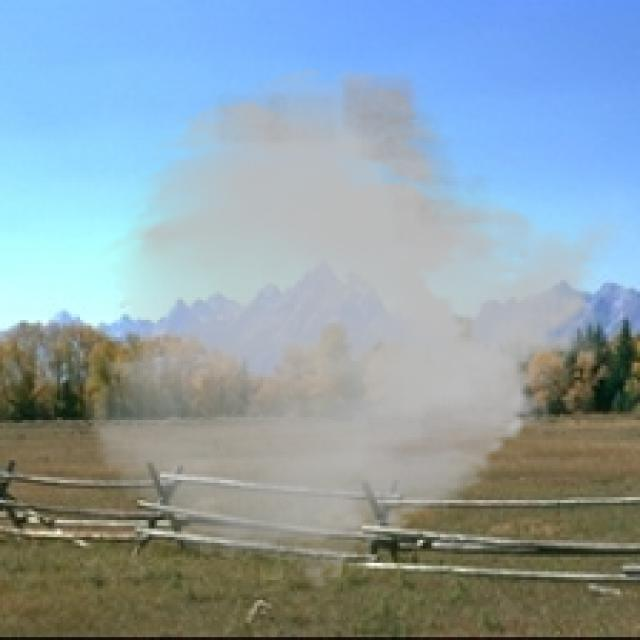Smoke: (83, 63, 626, 592)
